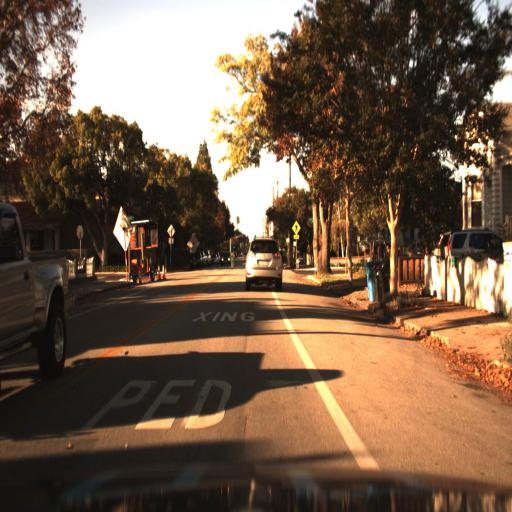car: (0, 200, 72, 394), (244, 232, 286, 291), (434, 228, 504, 263), (437, 231, 506, 255)
